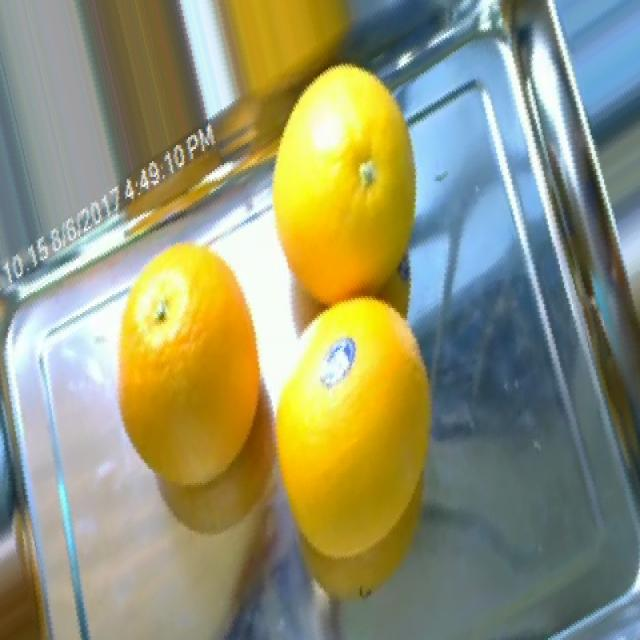Fruit: (67, 0, 228, 183)
